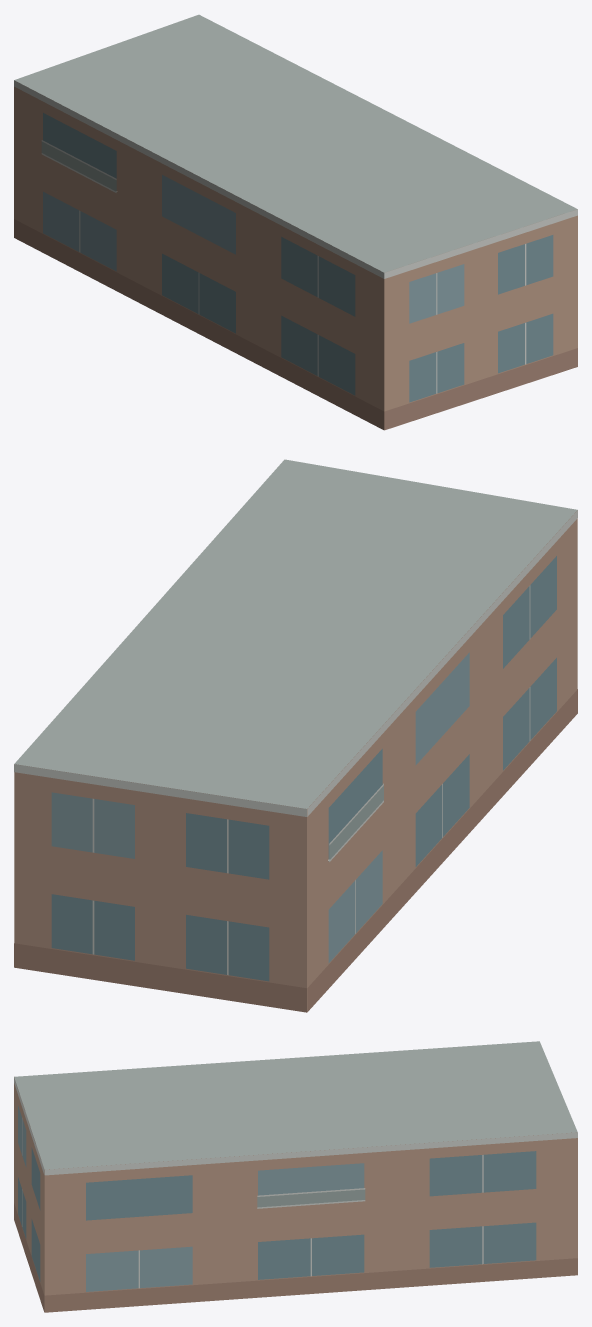
Rendered from survey-upis-32574638.glb.
3 renders of one model, top to bottom at view 1: azimuth 30°, elevation 25°; view 2: azimuth 150°, elevation 25°; view 3: azimuth 270°, elevation 25°, orthographic. The views are drawn at different scales.
Parts seen in each view (by area): view 1: survey-upis-32574638.tmp; view 2: survey-upis-32574638.tmp; view 3: survey-upis-32574638.tmp.
Boxes of the visible parts, x1,y1,x2,y2 form: survey-upis-32574638.tmp: (14, 14, 577, 430); survey-upis-32574638.tmp: (14, 459, 577, 1012); survey-upis-32574638.tmp: (14, 1041, 577, 1312).
Size of the model in its own units: 11.78 by 6.1 by 21.82.
